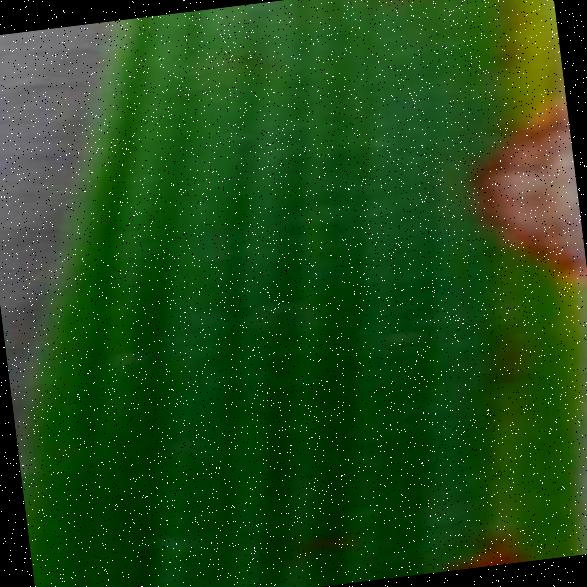Leaf_smut: (446, 81, 584, 284)
